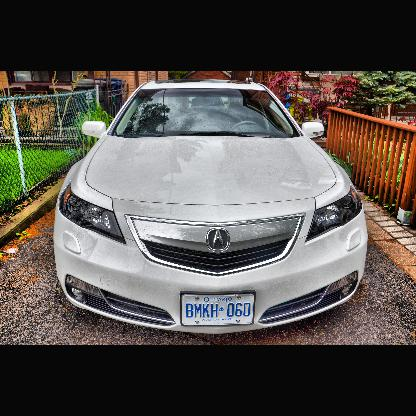Acura TL Sedan 2012: (53, 79, 370, 336)
